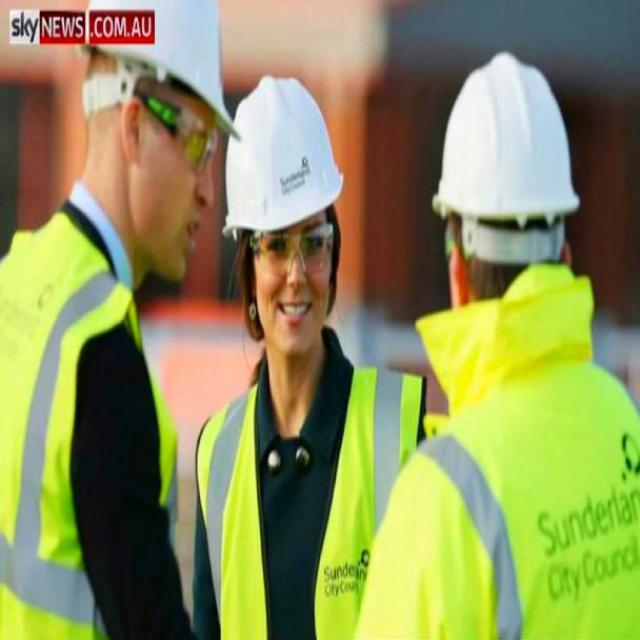helmet: (420, 40, 603, 385), (227, 64, 342, 360)
vest: (383, 338, 639, 639), (0, 221, 156, 639), (204, 376, 403, 639)
